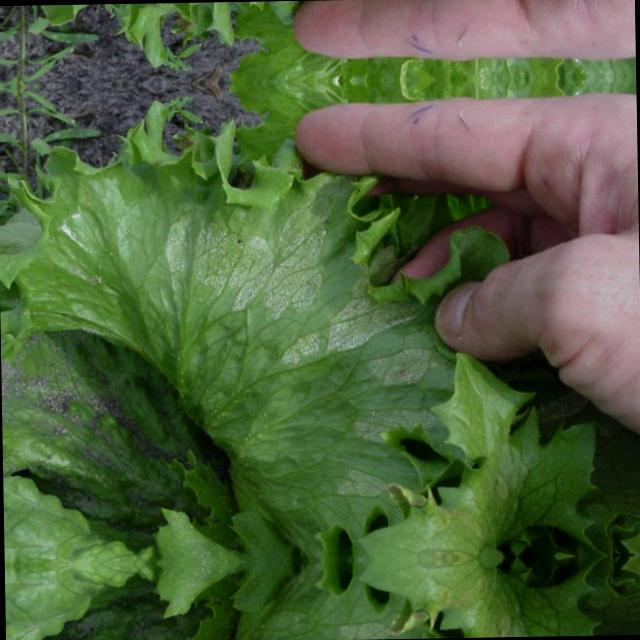Powdery_mildew: (266, 282, 436, 468), (1, 356, 138, 552), (38, 200, 333, 285), (4, 575, 139, 640)
